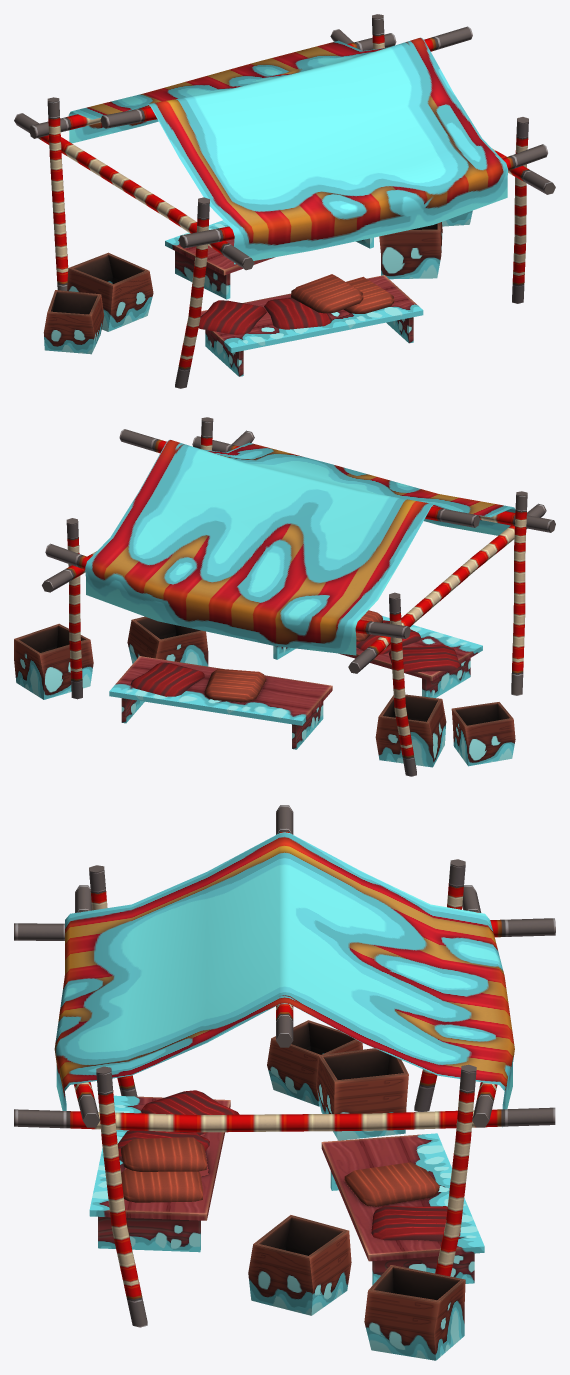
File: MarketStall1.FBX
The picture shows the model from 3 angles, top to bottom: view 1: azimuth 30°, elevation 25°; view 2: azimuth 150°, elevation 25°; view 3: azimuth 270°, elevation 25°; orthographic projection. The views are drawn at different scales.
Parts seen in each view (by area): view 1: MarketStall1; view 2: MarketStall1; view 3: MarketStall1.
Part boxes in pixels (x1,y1,x2,y2): MarketStall1: (14,14,555,388); MarketStall1: (14,417,555,776); MarketStall1: (14,805,555,1360).
Bounding box in the file's own units: 196 × 92.3 × 153.
1 material, 1 textured.
